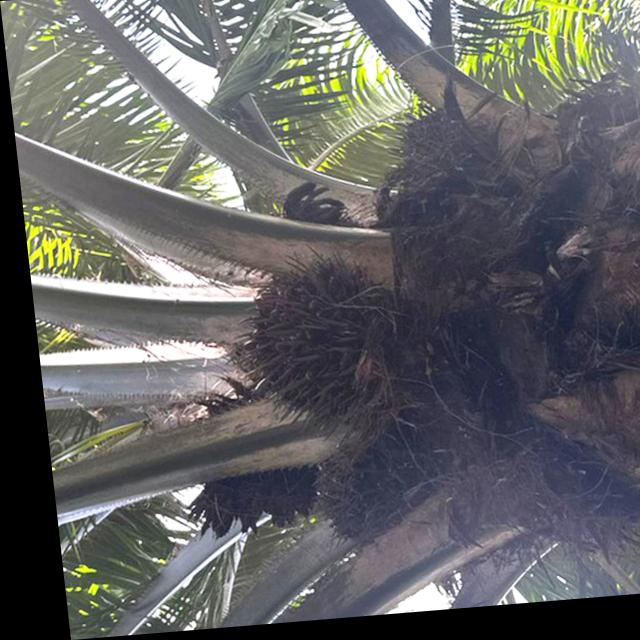ripe: (207, 235, 416, 469)
